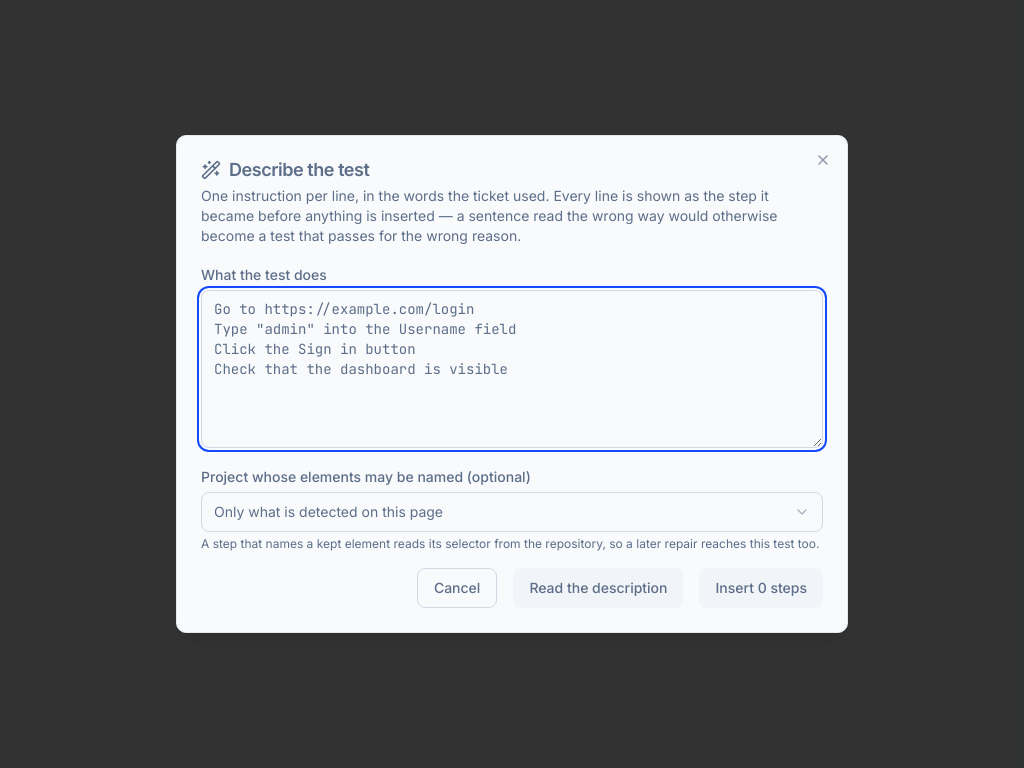
AuthorStepsModal › sends the page’s elements, so a sentence can only name something that exists
This screenshot has width=1024, height=768.
Replace the text in the text box with test id "author-steps-text" with "Click the Save button": (512, 369) x1=201 y1=290 x2=823 y2=448
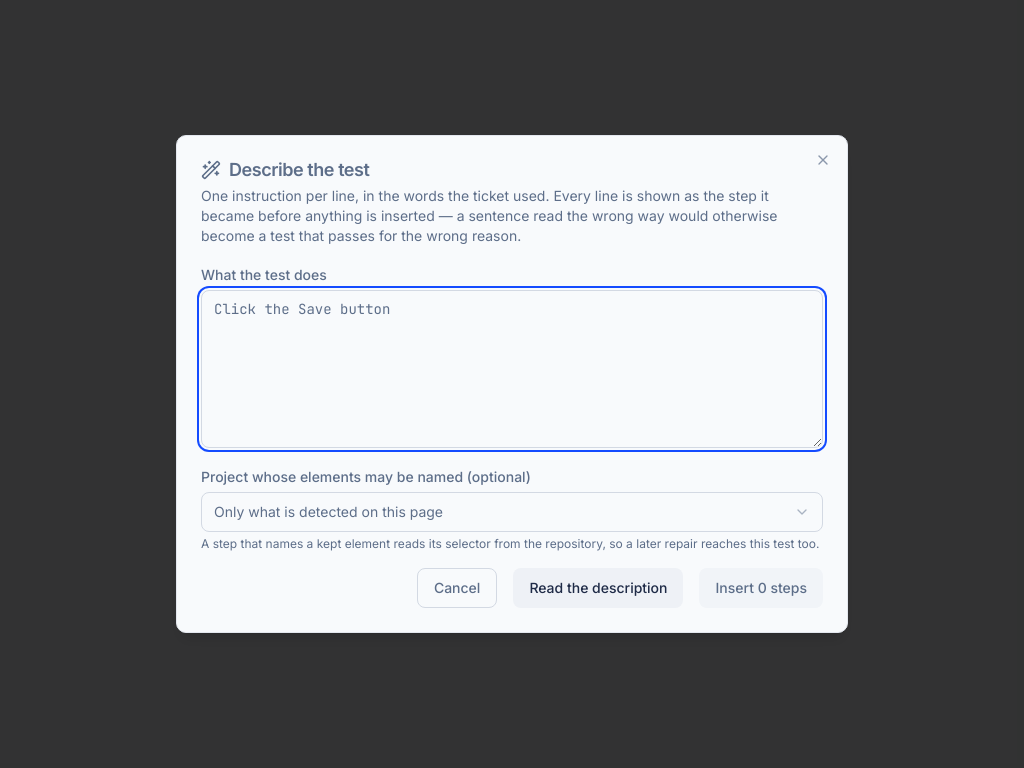
Click the button "Read the description": (598, 588) x1=513 y1=568 x2=684 y2=608
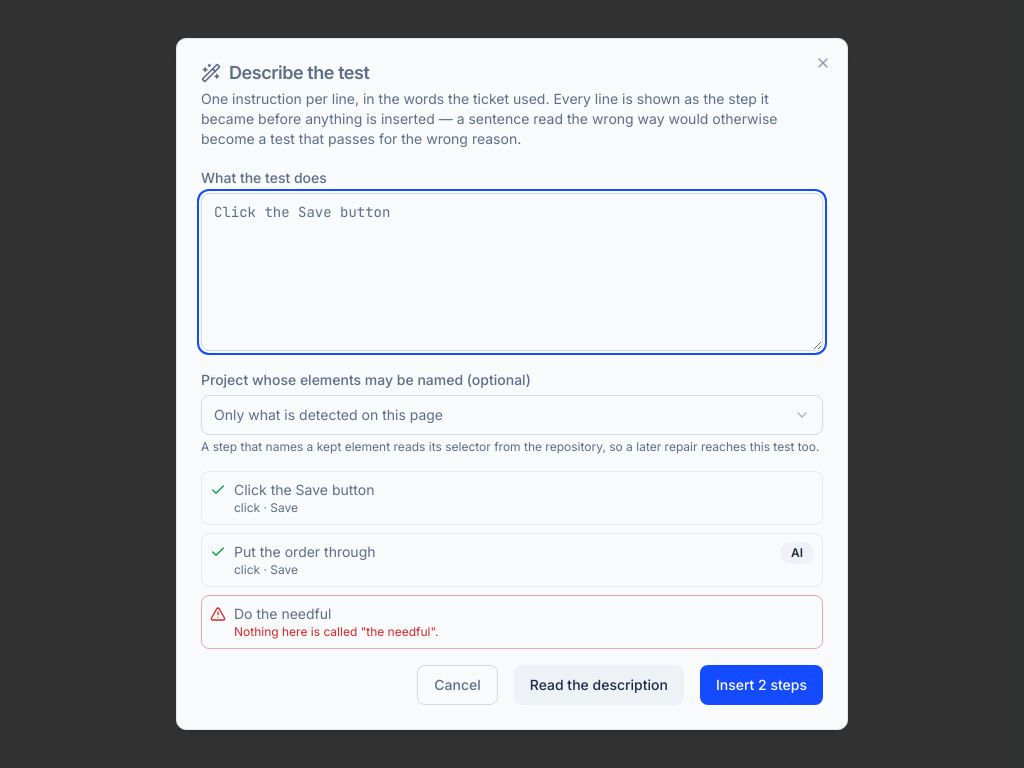
Result: the element with test id "author-steps-preview" is shown at x1=201 y1=471 x2=823 y2=649
